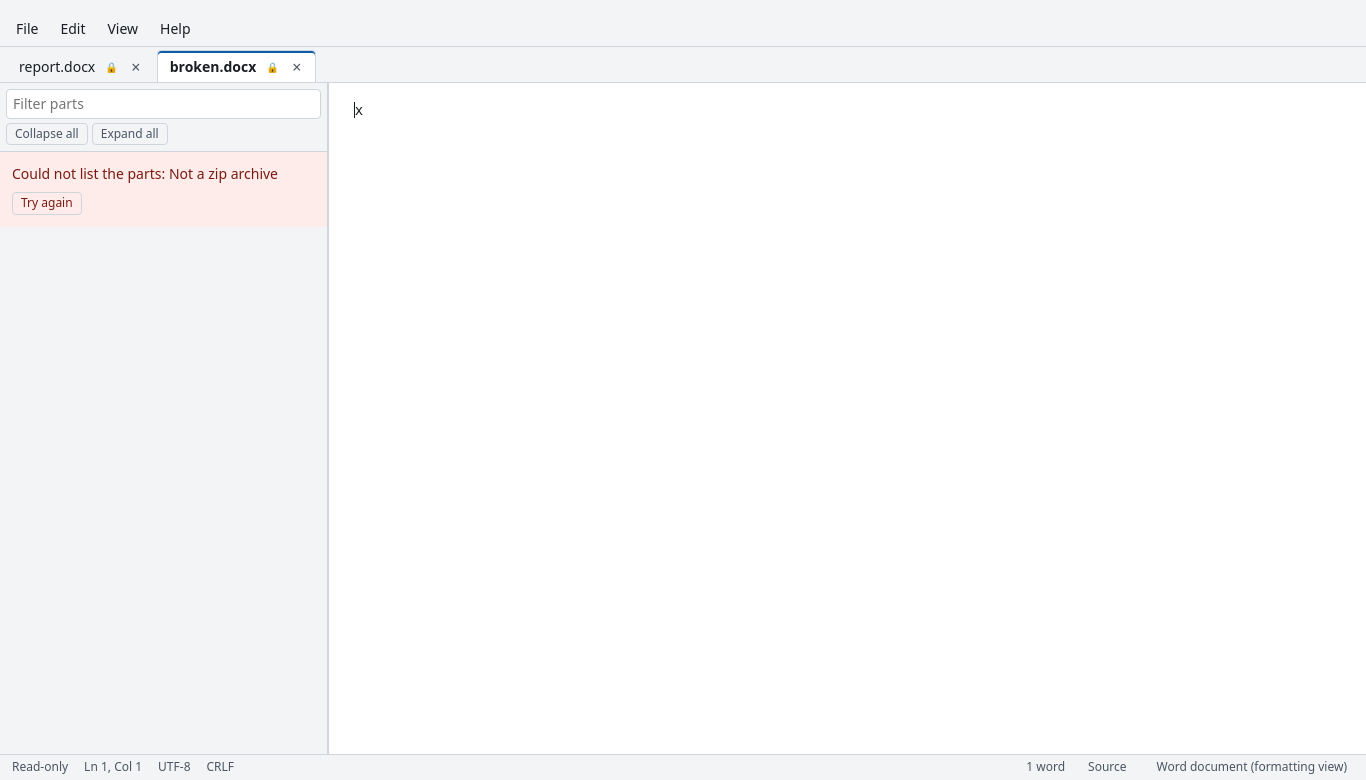
Test case: the Parts pane › shows the message when the parts cannot be listed, and can try again
Expected: the message shows "Not a zip archive", [169,164,278,183]
Click the button "Try again" at (47, 203), box [12,192,82,215]
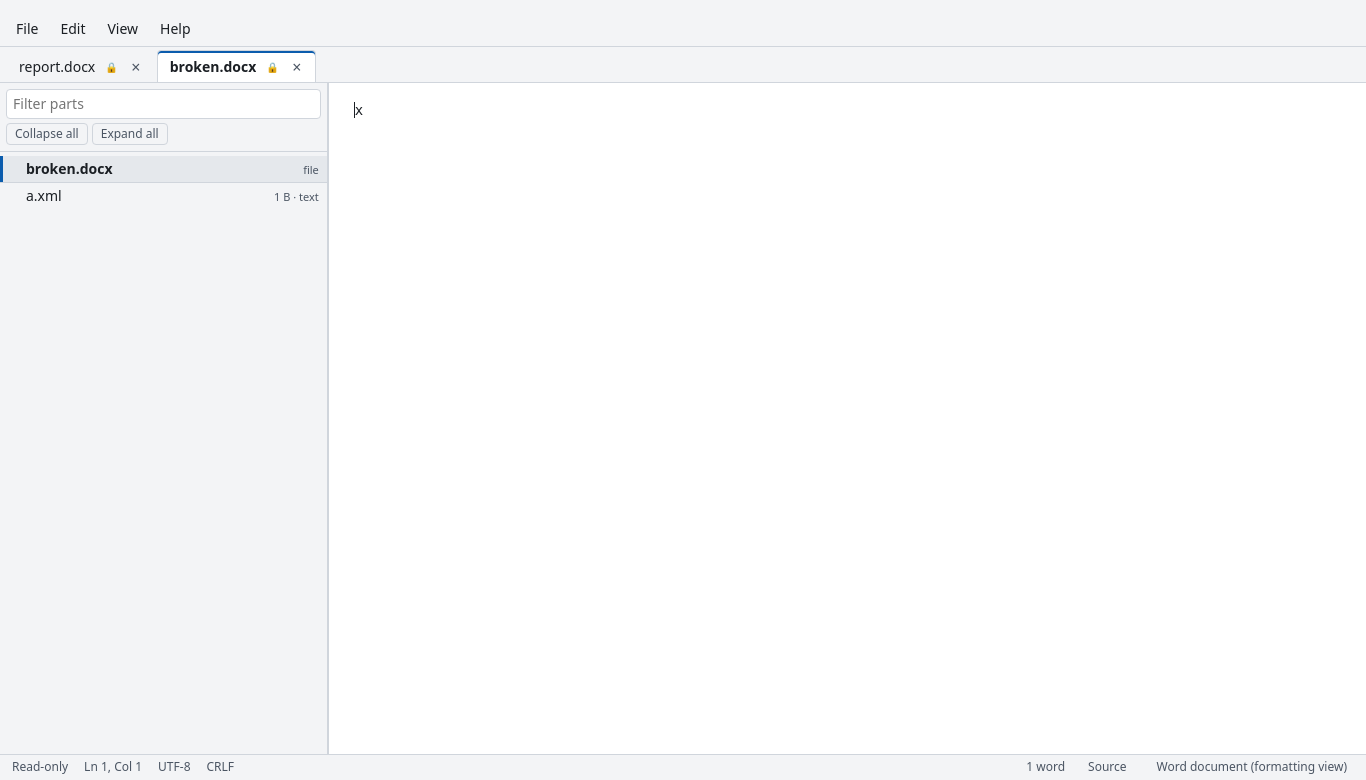
Expected: the element named "Parts of the open file" is shown, [0,156,327,205]
